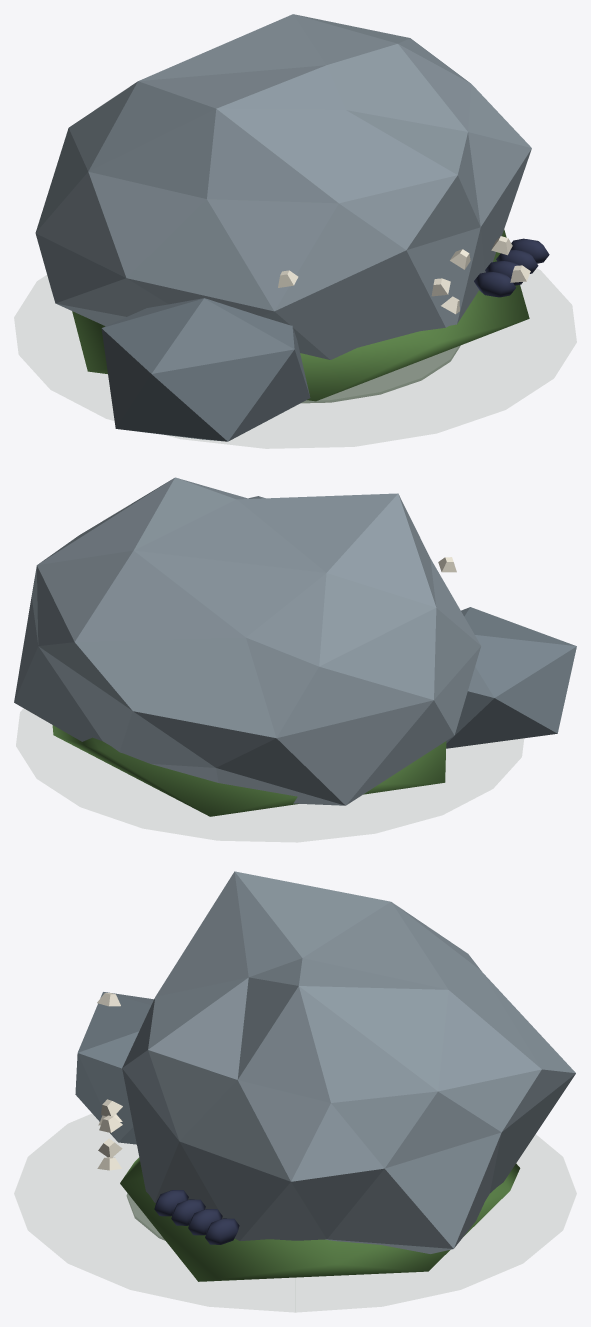
Rendered from rock_sea.glb.
The picture shows the model from 3 angles, top to bottom: view 1: azimuth 30°, elevation 25°; view 2: azimuth 150°, elevation 25°; view 3: azimuth 270°, elevation 25°; orthographic projection. The views are drawn at different scales.
Parts seen in each view (by area): view 1: rock_sea; view 2: rock_sea; view 3: rock_sea.
Boxes of the visible parts, x1,y1,x2,y2 form: rock_sea: (35, 14, 549, 441); rock_sea: (14, 477, 576, 816); rock_sea: (75, 871, 575, 1311).
Bounding box in the file's own units: 1.01 × 0.6249 × 1.
